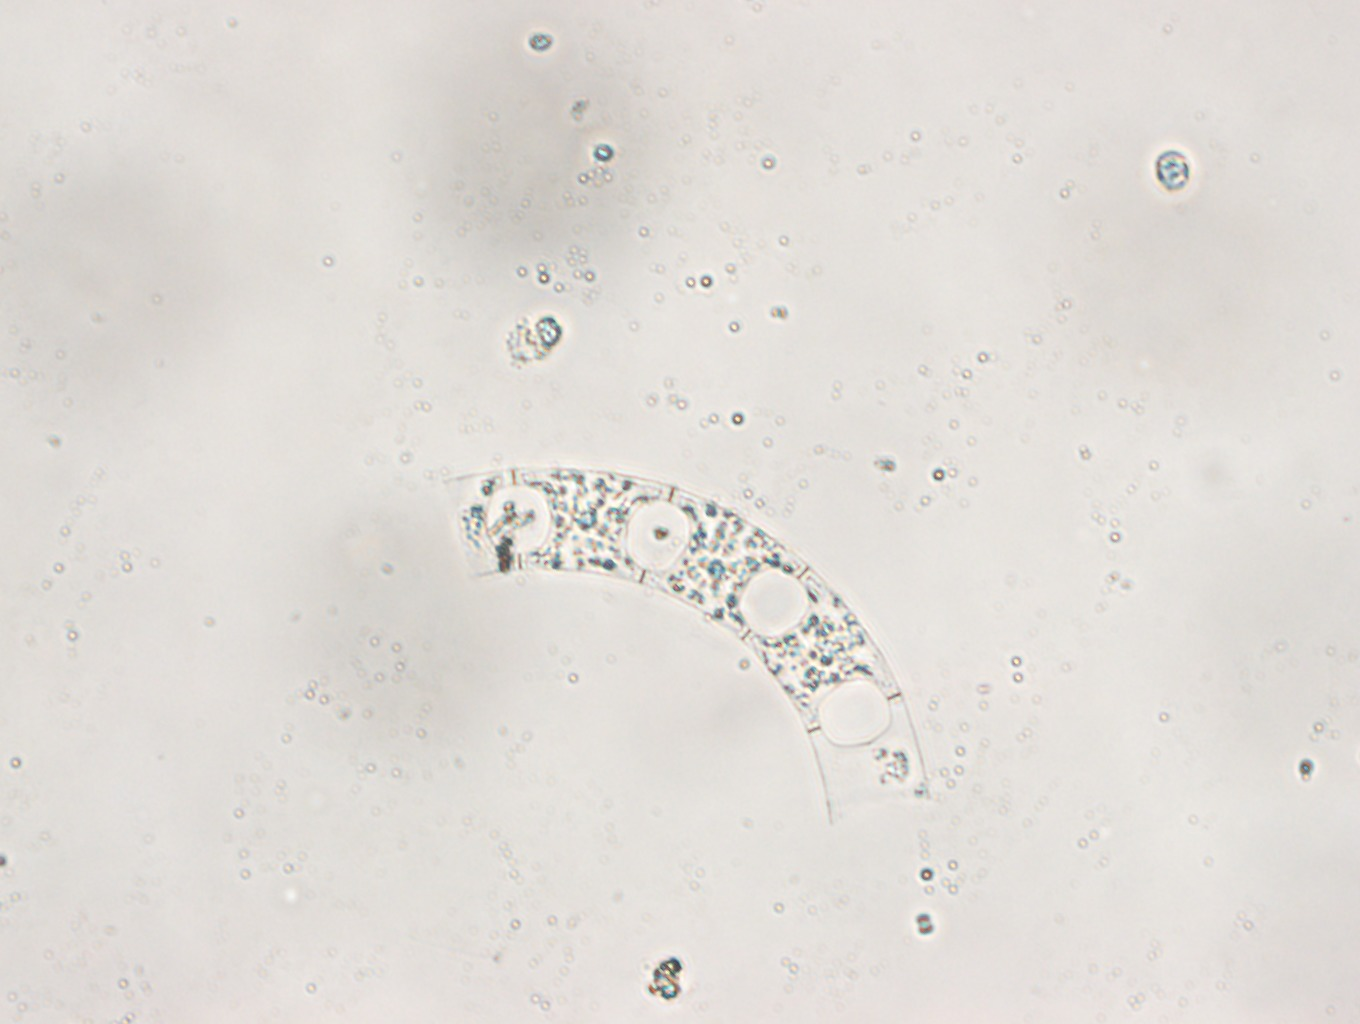eucampia: (444, 457, 933, 827)
